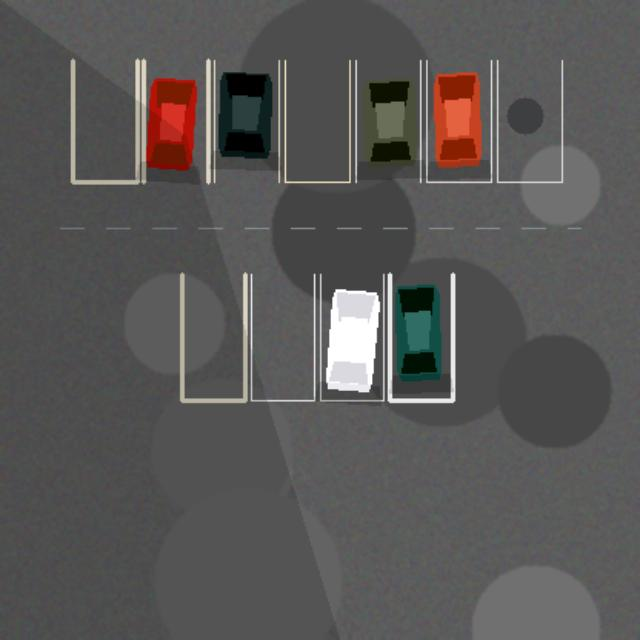space-empty: (182, 274, 245, 400), (251, 274, 314, 400), (72, 60, 137, 182), (497, 60, 562, 182), (285, 60, 349, 182)
space-occupied: (320, 274, 383, 400), (389, 274, 452, 400), (143, 60, 208, 182), (355, 60, 420, 182), (426, 60, 491, 182), (214, 60, 278, 182)
